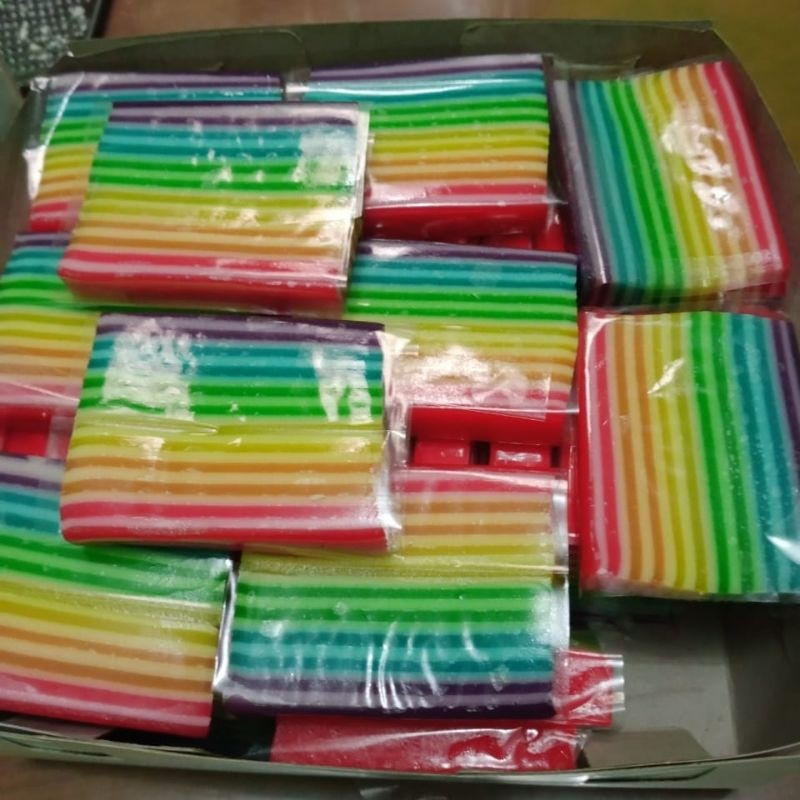kue_lapis_pelangi: (62, 307, 390, 539), (580, 307, 800, 597), (56, 99, 355, 290), (552, 63, 769, 294)
